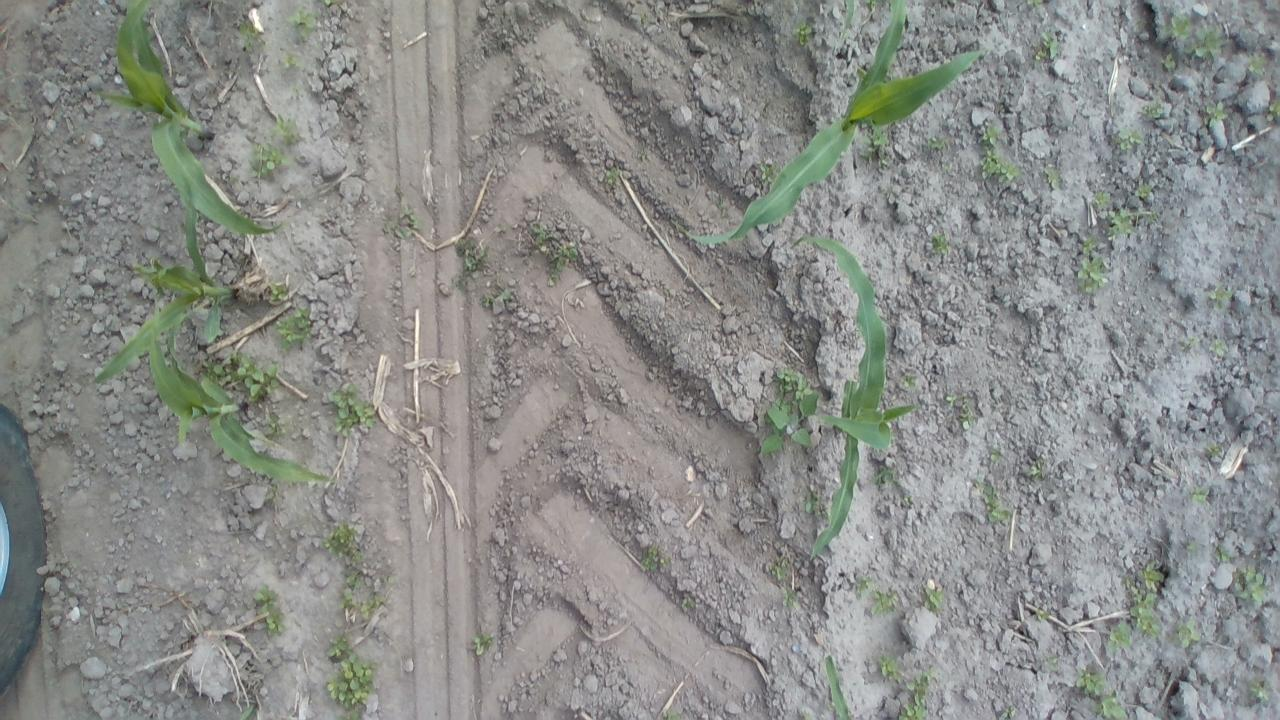Maize: (673, 1, 990, 246), (90, 0, 282, 236), (798, 232, 921, 562), (142, 302, 336, 490), (96, 204, 240, 382), (822, 654, 854, 720), (238, 700, 258, 720)
Weeds: (758, 368, 819, 454), (325, 635, 378, 720), (202, 351, 279, 404), (531, 221, 580, 284), (1163, 13, 1224, 60), (327, 383, 378, 436), (1125, 576, 1164, 638), (896, 668, 936, 720), (320, 522, 366, 564), (248, 139, 296, 178), (974, 478, 1013, 524), (274, 306, 314, 350), (254, 584, 288, 634), (978, 150, 1026, 182), (454, 240, 484, 290), (859, 122, 890, 170), (1234, 565, 1266, 604), (1076, 254, 1107, 294), (286, 4, 318, 42), (382, 206, 418, 239), (238, 18, 272, 52), (946, 394, 977, 431), (1104, 207, 1137, 240), (1171, 616, 1202, 650), (267, 112, 300, 142), (1071, 668, 1106, 696), (1097, 691, 1129, 720), (1107, 620, 1132, 656), (868, 588, 897, 618), (1032, 32, 1060, 63), (801, 493, 832, 521), (1138, 560, 1164, 592), (338, 574, 361, 610), (638, 546, 669, 572), (871, 466, 903, 490), (878, 654, 904, 682), (361, 592, 386, 621), (1205, 101, 1229, 128), (472, 630, 494, 659), (481, 289, 514, 308), (1208, 282, 1231, 309), (1116, 129, 1144, 150), (791, 22, 815, 46), (926, 578, 944, 609), (758, 161, 782, 184), (768, 558, 789, 584), (931, 231, 952, 256), (980, 125, 1006, 145), (1042, 164, 1064, 187), (854, 575, 874, 600), (1246, 52, 1268, 74), (280, 54, 306, 72), (604, 166, 626, 186), (1250, 680, 1270, 702), (268, 284, 288, 304), (898, 371, 918, 391), (1092, 190, 1112, 209), (1190, 487, 1210, 504), (852, 63, 868, 84), (1082, 233, 1097, 255), (267, 412, 282, 433), (1185, 538, 1199, 560), (1142, 102, 1163, 116), (1042, 656, 1060, 672), (1216, 546, 1232, 564), (1211, 338, 1227, 356), (1134, 182, 1152, 198), (782, 590, 796, 610), (1026, 463, 1042, 480), (928, 136, 945, 152), (999, 705, 1017, 720), (1144, 209, 1161, 224), (680, 597, 698, 611), (1267, 98, 1280, 117), (1162, 54, 1177, 70), (1184, 335, 1200, 350), (662, 708, 681, 720), (1206, 444, 1222, 458), (1036, 607, 1050, 621), (990, 448, 1001, 462), (902, 494, 914, 505), (1026, 0, 1042, 8), (866, 0, 878, 10), (271, 483, 278, 497), (322, 0, 334, 7)
